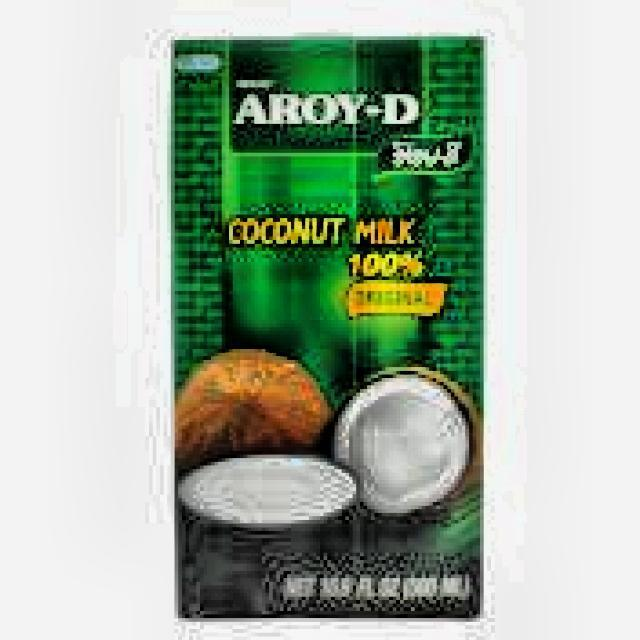cardboard: (167, 32, 484, 618)
